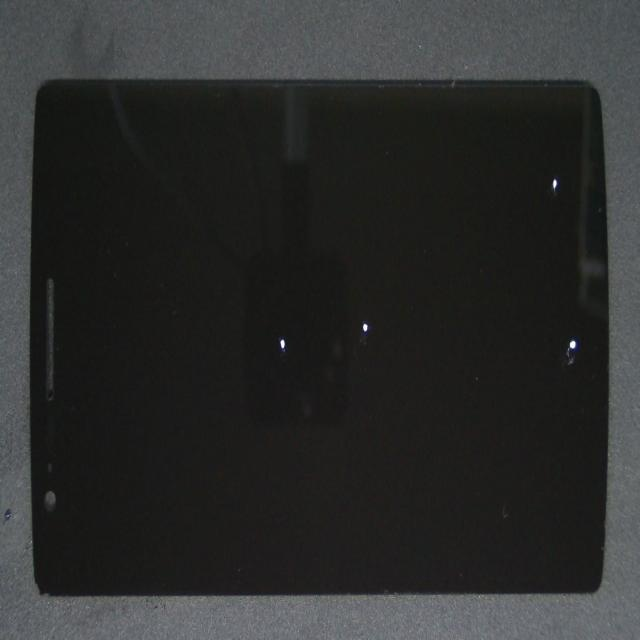stain: (287, 237, 640, 581), (194, 122, 544, 466), (115, 215, 418, 563), (308, 89, 640, 243)
